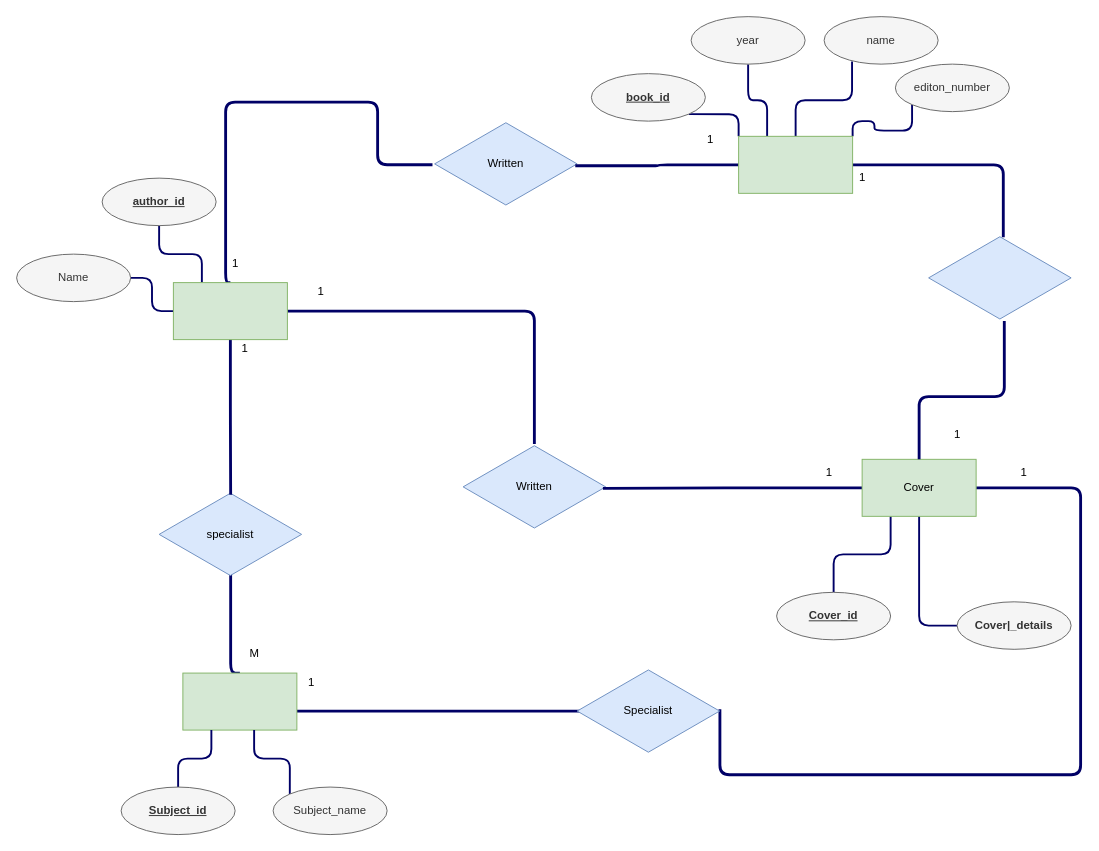
This 1099x851 diagram has some shape labels left out. Each missing label, with the centre of its shape:
Author: (x=229, y=311)
Book: (x=795, y=164)
Has: (x=999, y=277)
Subject: (x=239, y=701)
